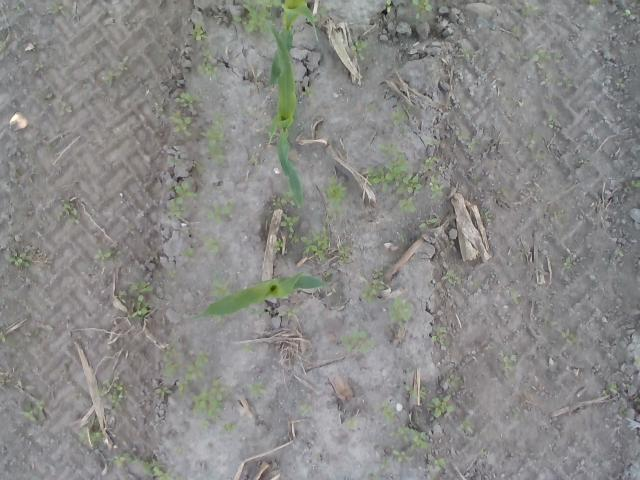Maize: (266, 20, 306, 211), (192, 269, 328, 317), (268, 0, 318, 88)
Weeds: (364, 140, 444, 214), (156, 343, 210, 398), (192, 376, 238, 432), (299, 228, 352, 264), (232, 0, 284, 34), (160, 92, 199, 137), (200, 110, 228, 168), (191, 20, 219, 78), (118, 281, 156, 321), (320, 172, 349, 223), (165, 176, 198, 218), (275, 213, 300, 263), (360, 266, 386, 306), (409, 0, 449, 25), (339, 329, 376, 355), (391, 426, 428, 450), (509, 48, 563, 64), (387, 296, 414, 328), (98, 379, 126, 409), (142, 455, 175, 480), (206, 200, 235, 224), (430, 393, 456, 419), (390, 102, 416, 127), (540, 70, 576, 88), (56, 200, 82, 224), (79, 426, 106, 448), (6, 249, 34, 269), (198, 232, 222, 254), (271, 189, 296, 210), (208, 278, 234, 298), (21, 400, 45, 421), (380, 399, 398, 424), (520, 0, 545, 17), (440, 270, 462, 289), (246, 382, 266, 402), (391, 448, 415, 464), (350, 38, 370, 57), (431, 324, 448, 346), (498, 350, 518, 368), (429, 458, 446, 479), (112, 451, 138, 464), (94, 246, 113, 262), (560, 328, 578, 344), (245, 304, 263, 320), (416, 218, 438, 231), (560, 255, 576, 272), (401, 381, 416, 399), (618, 0, 634, 16), (601, 382, 620, 395), (284, 306, 304, 318), (544, 110, 556, 128), (447, 374, 464, 386), (302, 84, 316, 98), (298, 402, 312, 416), (526, 134, 542, 146), (418, 385, 429, 402), (105, 68, 114, 88), (176, 248, 194, 258), (511, 23, 522, 39), (398, 231, 408, 248), (465, 140, 478, 153), (50, 2, 64, 14), (480, 208, 494, 220), (584, 0, 604, 8), (462, 46, 474, 59), (552, 208, 564, 220), (454, 129, 466, 141), (379, 458, 391, 470), (462, 419, 473, 432), (510, 290, 520, 304), (47, 142, 59, 153), (348, 416, 359, 428), (367, 102, 380, 112), (511, 408, 523, 418), (478, 447, 490, 457), (0, 34, 8, 48), (367, 471, 379, 480), (615, 78, 625, 88), (249, 154, 259, 164), (191, 160, 201, 170), (0, 330, 7, 344), (242, 344, 254, 352), (385, 0, 392, 13), (620, 408, 630, 417), (615, 248, 625, 257), (631, 179, 640, 188), (119, 63, 129, 71), (168, 270, 178, 278), (622, 384, 632, 389)
